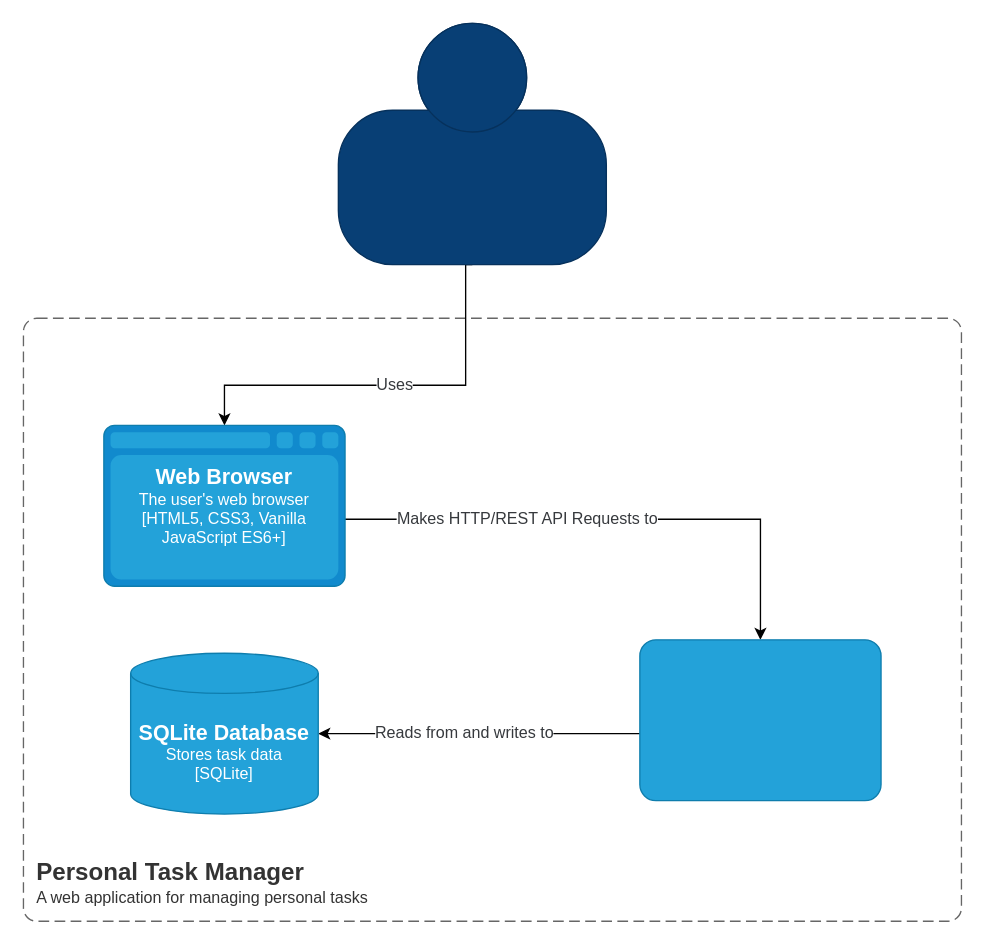
Image size: 985x945. Some labels were removed from this diagram. Each missing label, with the box of its shape:
User [Person] User that uses Task Manager Application: (337, 22, 606, 265)
Web Server Handles API requests [Node.js, Express.js]: (639, 639, 881, 801)
